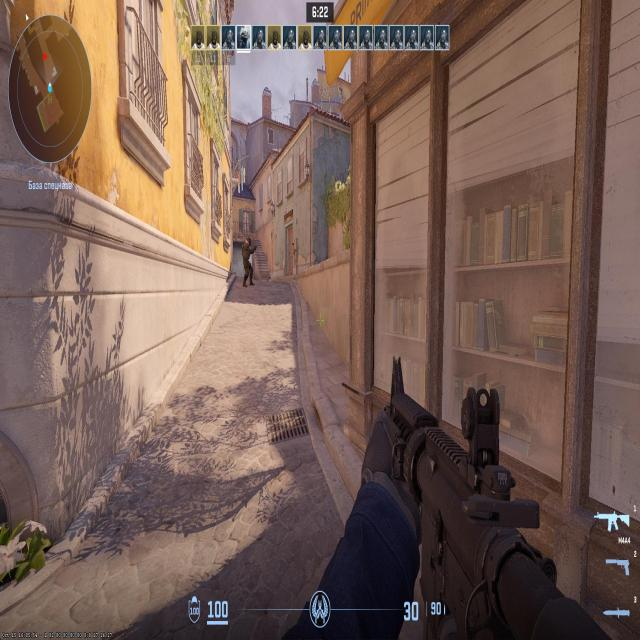CT: (242, 235, 252, 281)
CT_heat: (247, 240, 251, 247)
